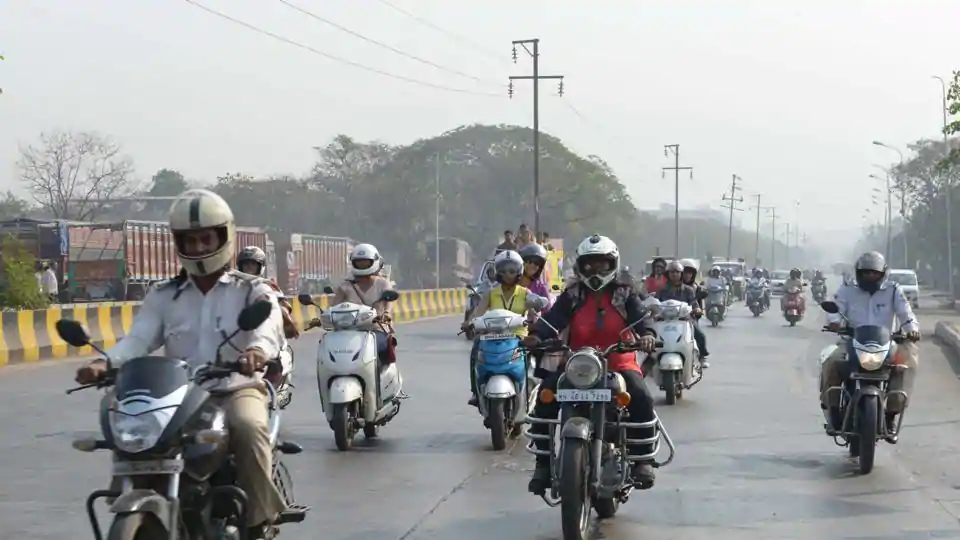helmet: (122, 179, 250, 382), (824, 231, 922, 455), (553, 225, 635, 353), (319, 229, 386, 375), (468, 225, 530, 349)
